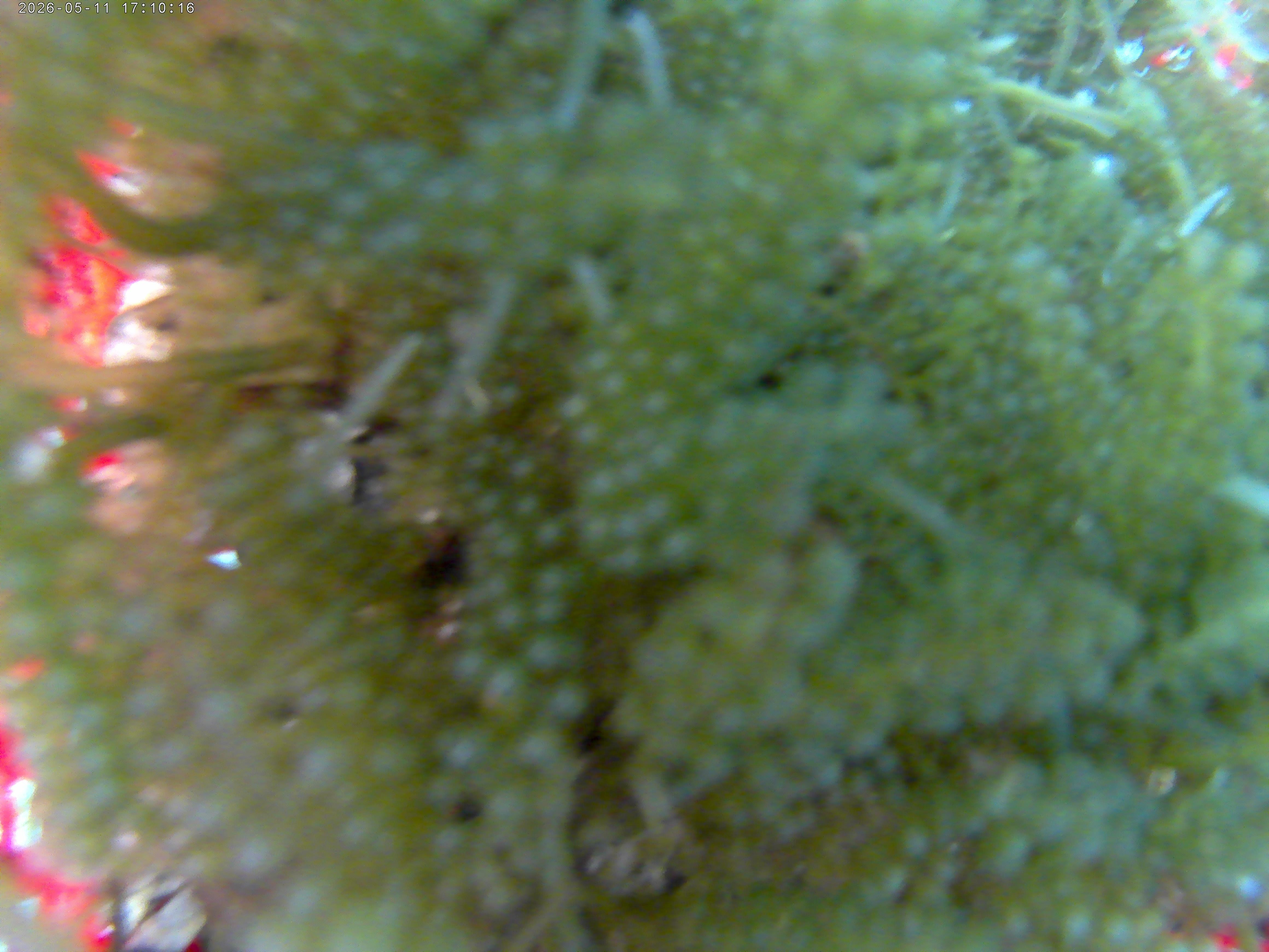Harvestable: (5, 597, 62, 660), (851, 41, 909, 96), (38, 655, 99, 703), (478, 667, 532, 721), (0, 550, 54, 604), (507, 110, 557, 159), (802, 550, 853, 598), (802, 68, 852, 115), (716, 337, 766, 384), (513, 728, 562, 775), (980, 824, 1027, 872), (906, 53, 950, 100), (523, 629, 567, 676), (794, 34, 841, 76), (333, 189, 382, 229), (745, 554, 789, 597), (418, 174, 465, 214), (533, 562, 583, 599), (733, 223, 771, 269), (522, 163, 565, 203), (687, 278, 726, 321), (271, 204, 314, 243), (88, 778, 132, 816), (593, 368, 632, 410), (492, 598, 531, 640), (465, 180, 507, 219), (1053, 902, 1093, 942), (487, 788, 529, 826), (551, 680, 589, 722), (658, 532, 701, 569), (313, 218, 359, 252), (81, 699, 120, 739), (442, 732, 485, 768), (789, 252, 829, 290), (80, 743, 123, 778), (372, 168, 413, 204), (664, 344, 700, 383), (768, 63, 798, 108), (638, 492, 674, 529), (775, 298, 809, 337), (581, 466, 615, 505), (1041, 264, 1074, 304), (1039, 492, 1074, 529), (303, 163, 337, 201), (532, 596, 574, 626), (1098, 908, 1133, 944), (1225, 248, 1261, 283), (698, 246, 734, 281), (578, 516, 616, 549), (1185, 245, 1219, 280), (573, 417, 608, 451), (1012, 244, 1048, 277), (1000, 904, 1034, 938), (534, 561, 568, 594), (1232, 869, 1265, 903), (1135, 906, 1169, 939), (624, 340, 658, 373), (638, 383, 676, 412), (611, 511, 645, 543), (899, 822, 930, 857), (781, 116, 817, 146), (605, 317, 642, 344), (874, 866, 906, 897), (534, 517, 566, 548), (781, 222, 811, 255), (755, 187, 786, 218), (687, 225, 717, 256), (651, 302, 686, 328), (496, 530, 526, 559), (723, 166, 755, 192), (815, 760, 843, 789), (614, 458, 641, 488), (937, 471, 965, 499), (745, 285, 772, 314), (644, 445, 673, 472), (994, 359, 1021, 386), (514, 493, 542, 519), (996, 390, 1024, 416), (559, 398, 590, 421), (1071, 512, 1098, 538), (589, 346, 612, 376), (510, 456, 537, 481), (475, 490, 502, 515), (935, 859, 961, 884), (1012, 144, 1039, 168), (1025, 392, 1050, 416), (1097, 267, 1121, 292), (1153, 233, 1177, 257), (467, 449, 491, 472), (485, 516, 508, 538), (720, 93, 744, 114), (692, 29, 715, 50)
